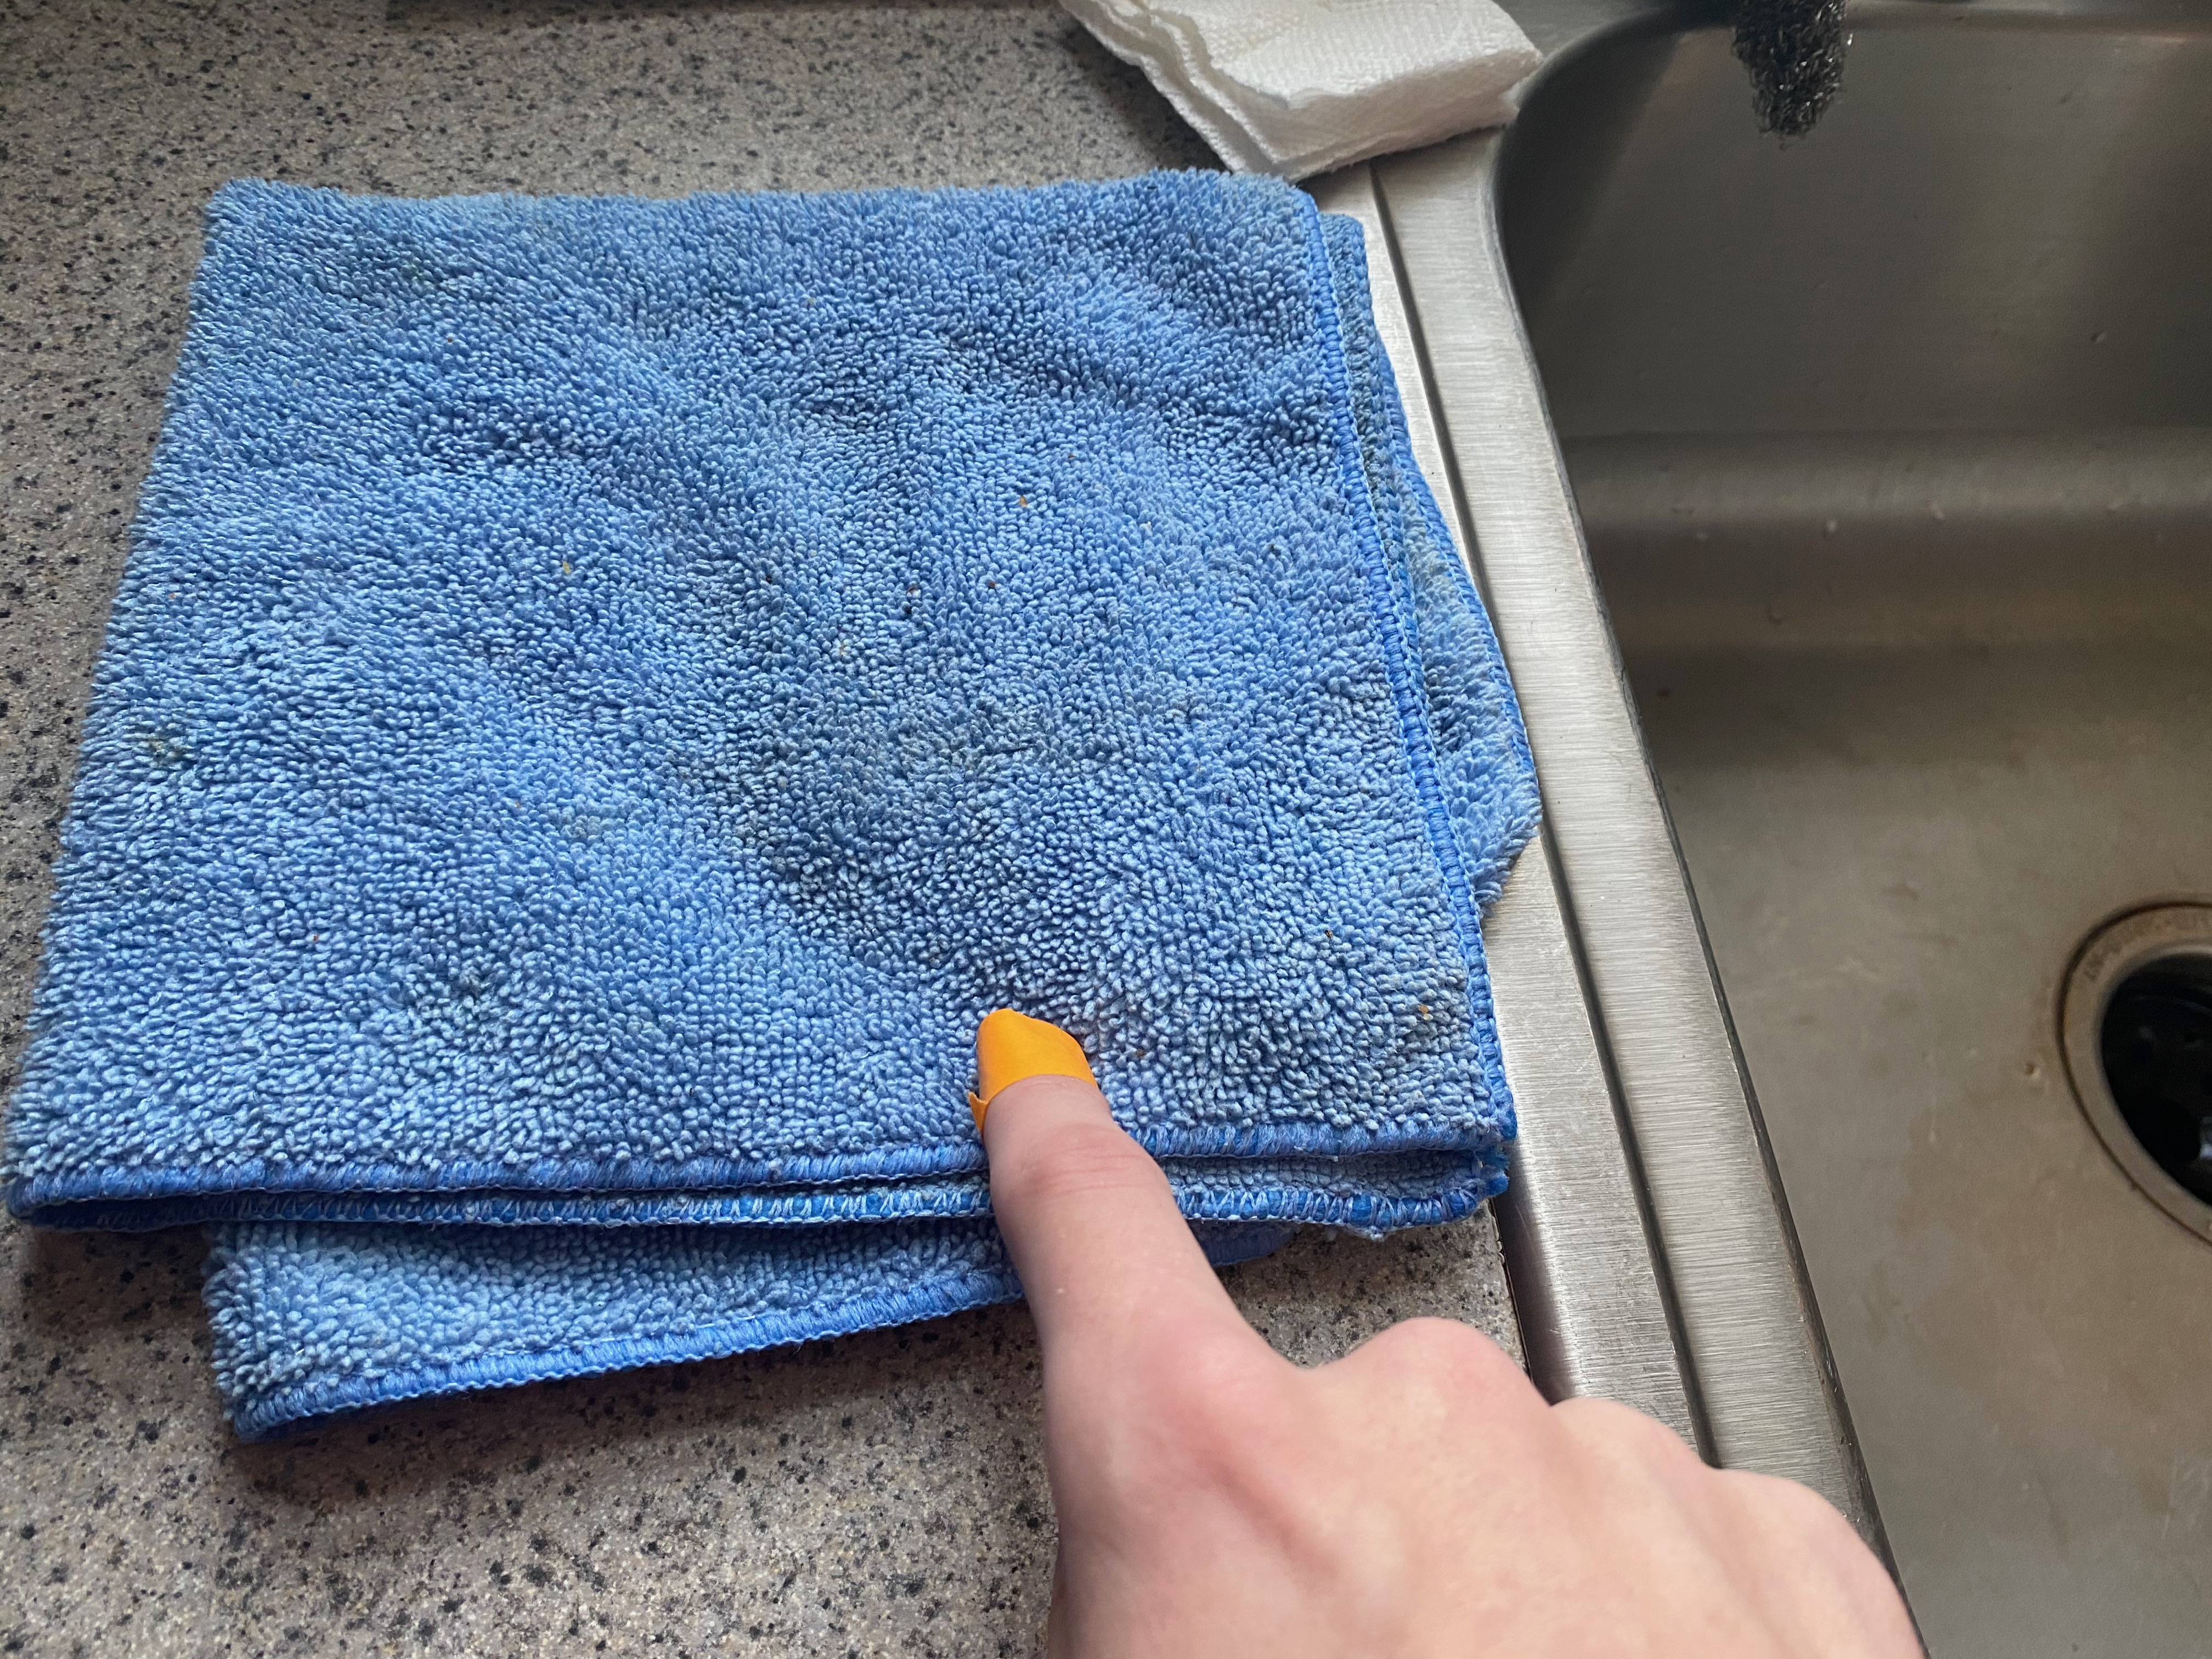fingertip: (939, 992, 1120, 1175)
